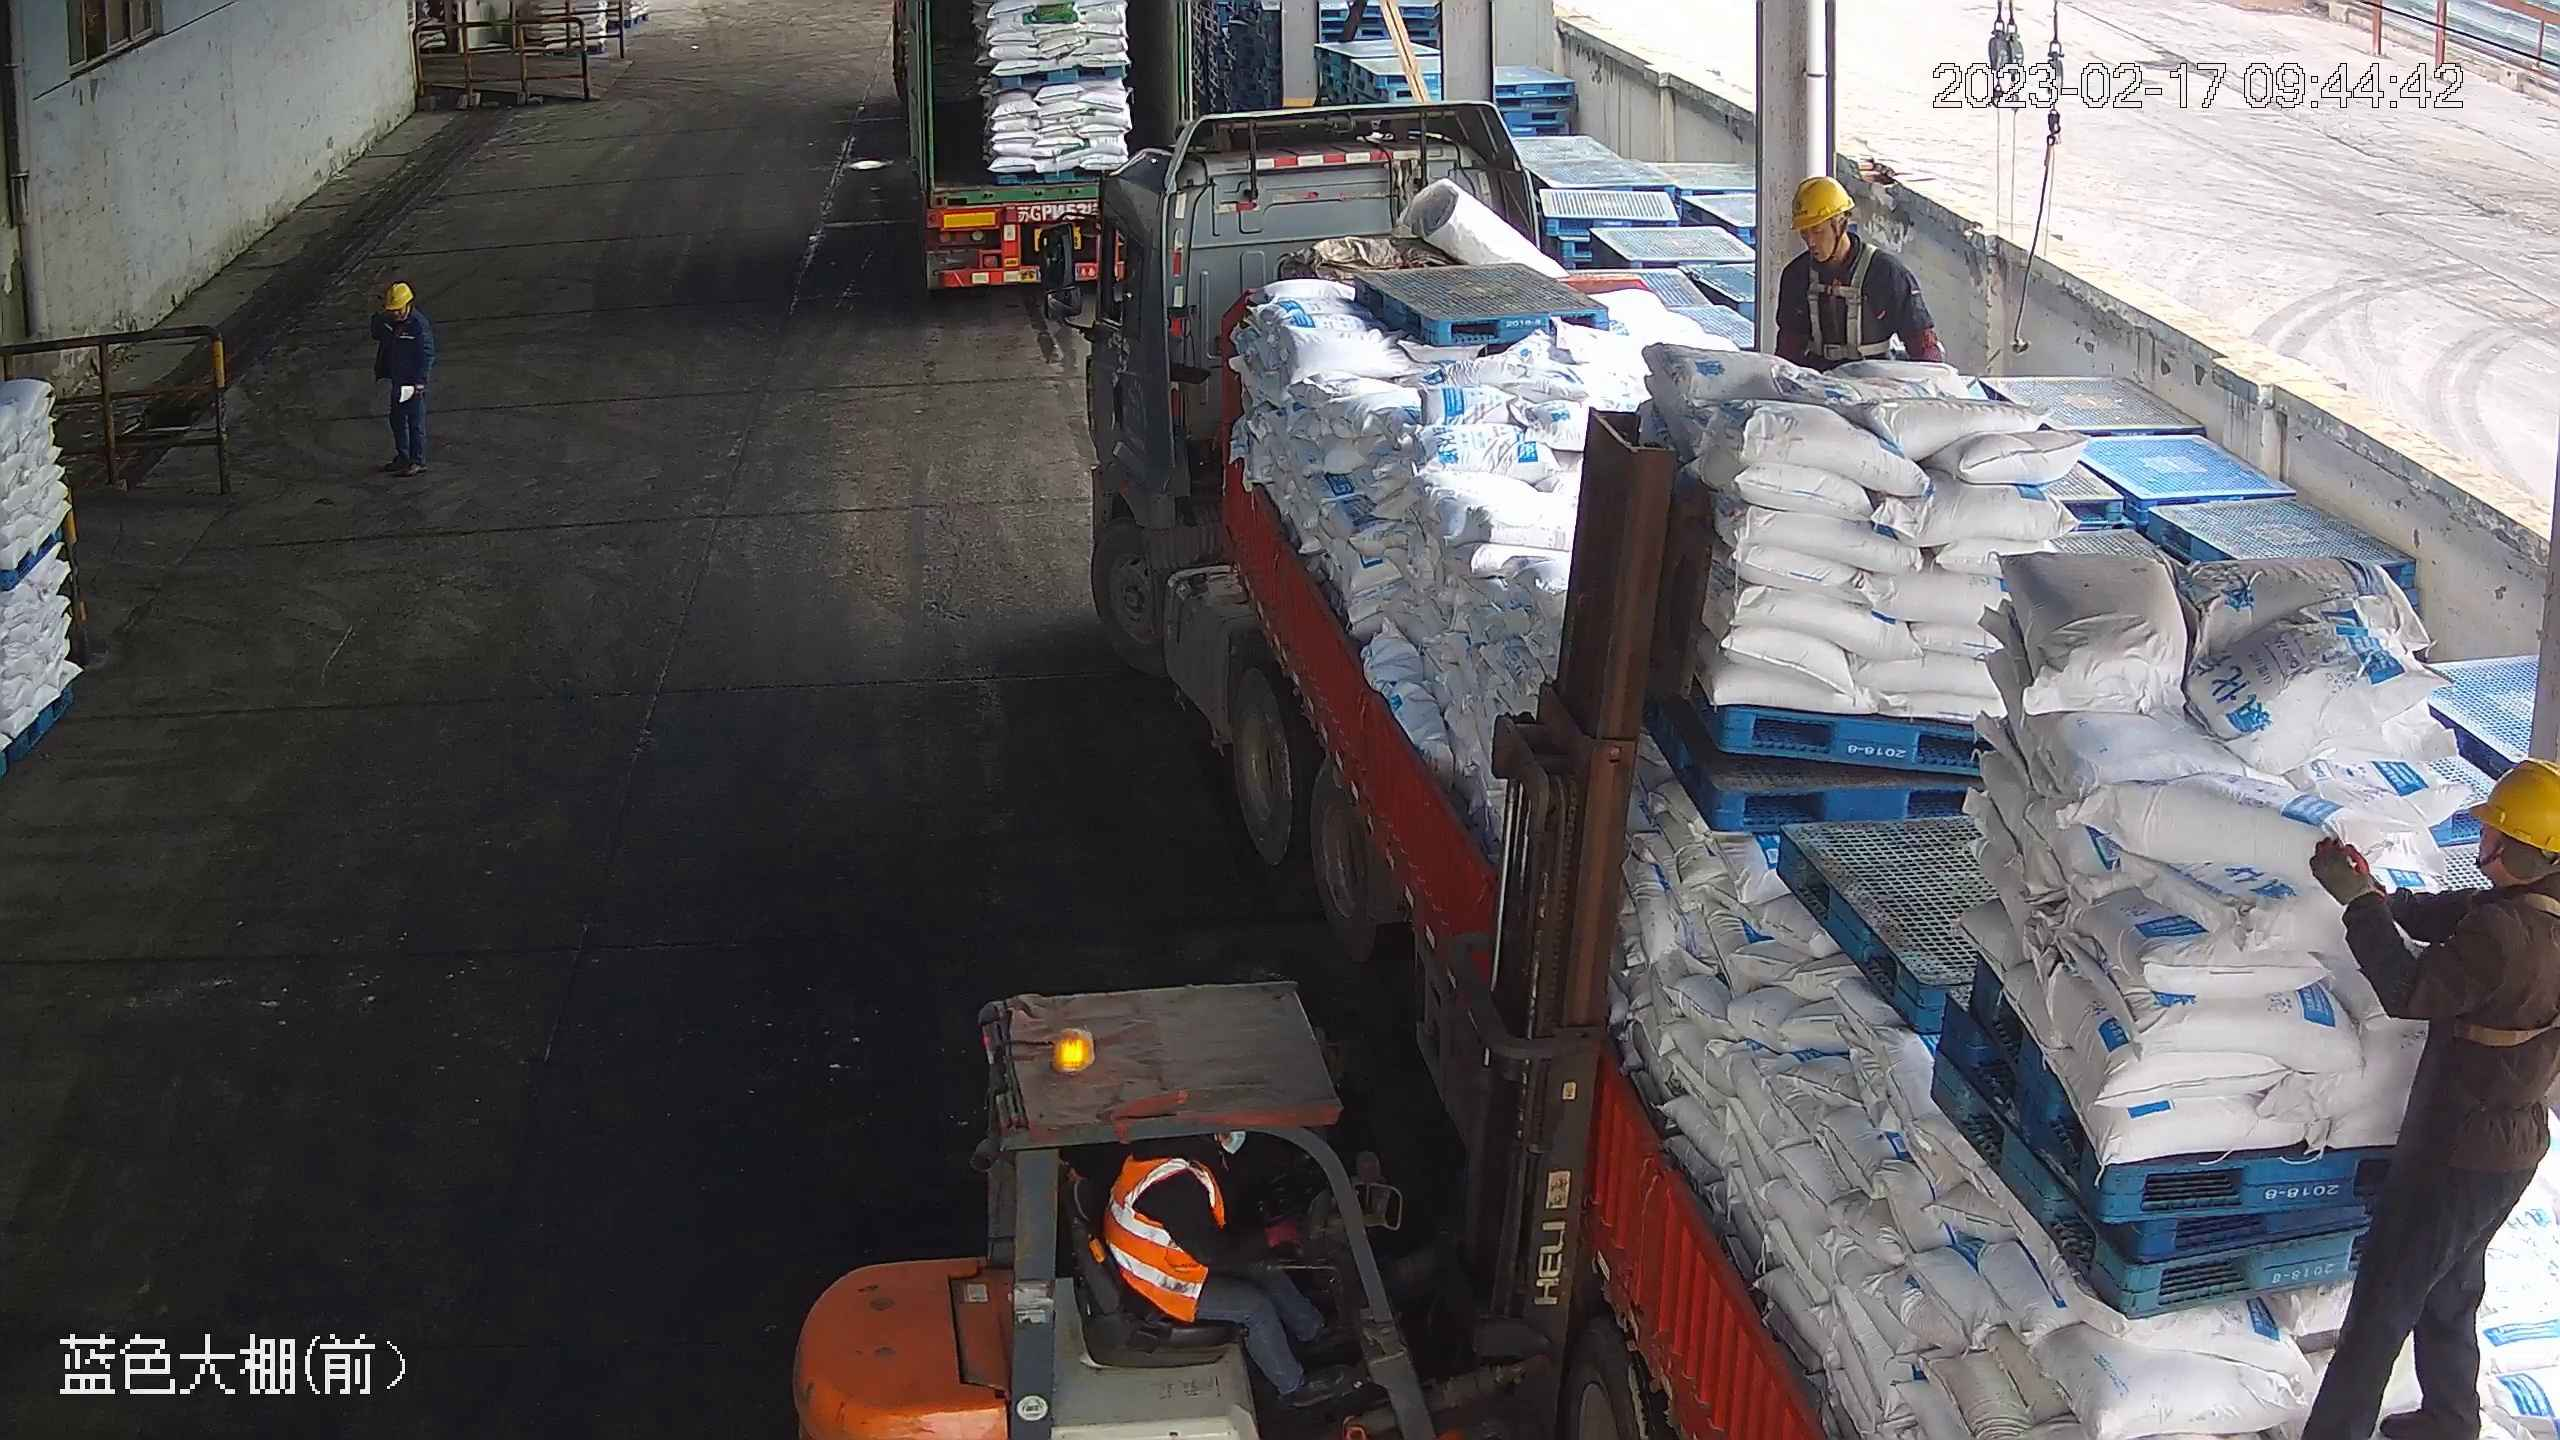belt: (2445, 886, 2560, 1049), (1804, 251, 1886, 361)
head: (2430, 754, 2560, 977), (1777, 171, 1916, 300), (372, 282, 431, 345)
helmet: (2471, 754, 2560, 859), (1788, 173, 1854, 226), (383, 282, 413, 306)
people: (2305, 756, 2560, 1440), (1104, 1134, 1356, 1406), (372, 280, 432, 474)
truck: (1057, 146, 2557, 1440), (875, 1, 1257, 330)
